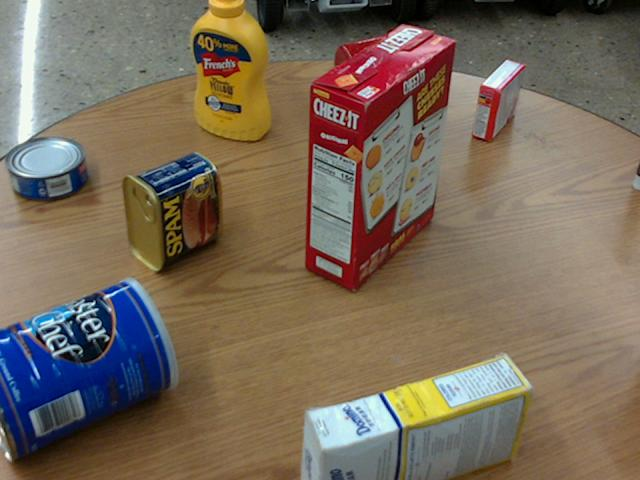cracker_box: (305, 24, 452, 289)
gelatin_box: (472, 60, 526, 141)
large_marker: (633, 161, 639, 188)
master_chef_can: (0, 277, 176, 459)
mug: (333, 27, 414, 104)
mustard_bottle: (189, 0, 268, 139)
potted_meat_can: (120, 150, 219, 270)
sugar_box: (298, 353, 531, 479)
tuna_fish_can: (6, 136, 86, 199)
